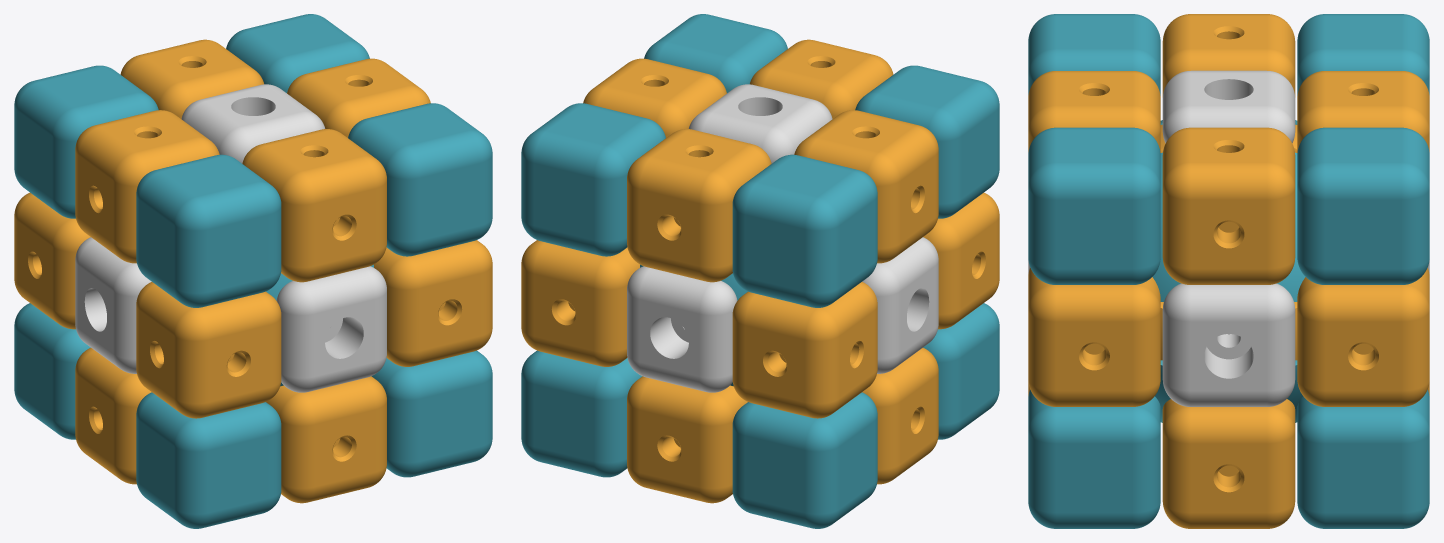
The model's file is printable_cube.glb.
The picture shows the model from 3 angles, left to right: view 1: azimuth 30°, elevation 25°; view 2: azimuth 150°, elevation 25°; view 3: azimuth 270°, elevation 25°; orthographic projection. The views are drawn at different scales.
Parts seen in each view (by area): view 1: corner_07, corner_02, edge_05, corner_04, edge_10, corner_03, edge_02, edge_06, center_03, edge_09, corner_06, edge_04 (+7 smaller); view 2: corner_06, corner_01, edge_04, corner_05, edge_08, corner_00, edge_00, edge_07, center_02, edge_09, corner_07, edge_05 (+7 smaller); view 3: corner_04, corner_05, edge_11, corner_00, corner_03, edge_07, edge_06, edge_03, center_05, edge_08, edge_10, center_01 (+3 smaller).
Boxes of the visible parts, x1,y1,x2,y2 form: corner_07: [136, 154, 292, 307]; corner_02: [136, 382, 283, 528]; edge_05: [136, 282, 281, 418]; corner_04: [348, 103, 492, 267]; edge_10: [242, 129, 386, 282]; corner_03: [371, 350, 492, 477]; edge_02: [266, 376, 386, 503]; edge_06: [374, 240, 492, 366]; center_03: [276, 266, 386, 392]; edge_09: [75, 110, 219, 263]; corner_06: [14, 65, 158, 218]; edge_04: [14, 192, 90, 329]; corner_06: [721, 154, 877, 307]; corner_01: [730, 382, 877, 528]; edge_04: [732, 282, 877, 418]; corner_05: [521, 103, 665, 267]; edge_08: [627, 129, 771, 282]; corner_00: [521, 350, 642, 477]; edge_00: [627, 376, 747, 503]; edge_07: [521, 240, 639, 366]; center_02: [627, 266, 737, 392]; edge_09: [794, 110, 938, 263]; corner_07: [855, 65, 999, 218]; edge_05: [923, 192, 999, 329]; corner_04: [1028, 127, 1180, 301]; corner_05: [1277, 127, 1429, 301]; edge_11: [1162, 127, 1295, 284]; corner_00: [1287, 360, 1429, 528]; corner_03: [1028, 360, 1170, 528]; edge_07: [1294, 268, 1429, 406]; edge_06: [1028, 268, 1163, 406]; edge_03: [1162, 399, 1295, 528]; center_05: [1162, 283, 1295, 406]; edge_08: [1292, 71, 1429, 152]; edge_10: [1028, 71, 1165, 152]; center_01: [1162, 70, 1295, 143].
Size of the model in its own units: 57 by 57 by 57.
